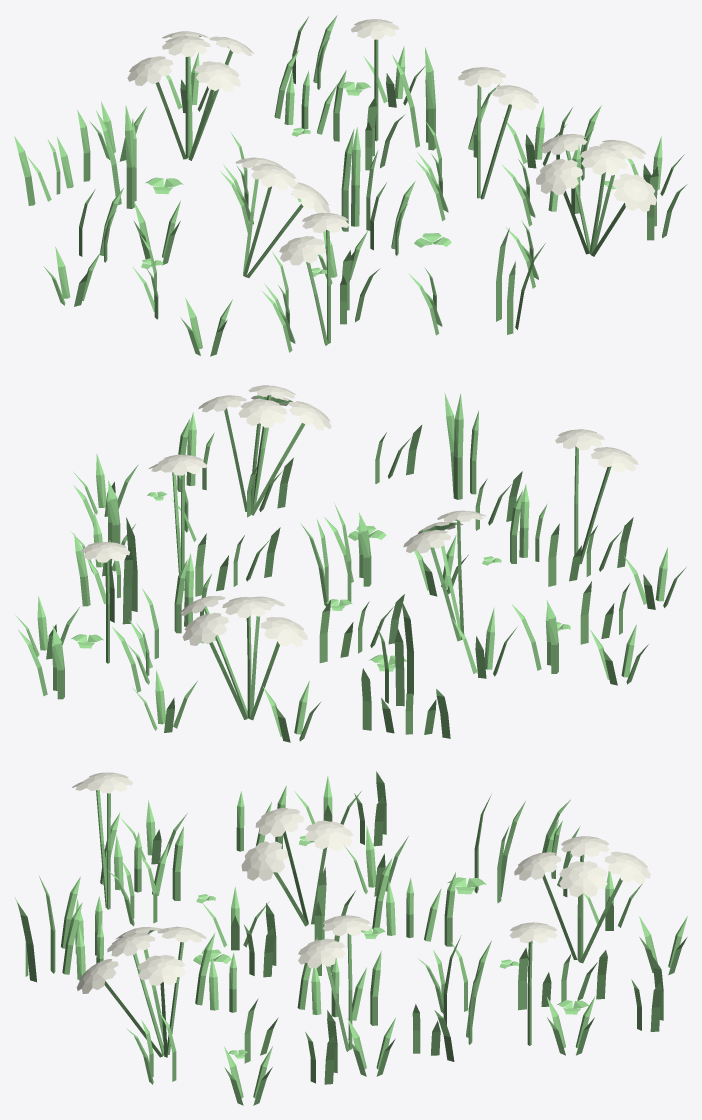
The model's file is Hogweed.fbx.
3 renders of one model, top to bottom at view 1: azimuth 30°, elevation 25°; view 2: azimuth 150°, elevation 25°; view 3: azimuth 270°, elevation 25°, orthographic. The views are drawn at different scales.
Visible parts, largest first — view 1: Hogweed; view 2: Hogweed; view 3: Hogweed.
Boxes of the visible parts, <box> form: Hogweed: <box>14,15,687,356</box>; Hogweed: <box>15,385,686,742</box>; Hogweed: <box>15,771,687,1105</box>.
Bounding box in the file's own units: 5.89 × 1.29 × 5.66.
